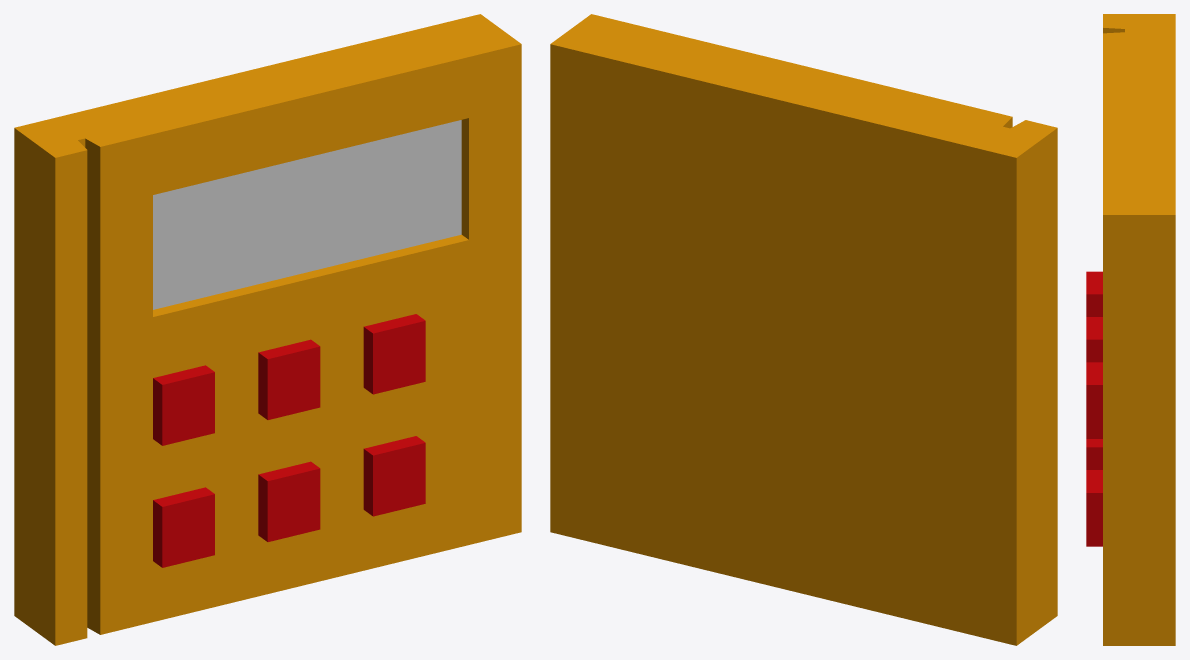
File: keypad.fbx
The picture shows the model from 3 angles, left to right: view 1: azimuth 30°, elevation 25°; view 2: azimuth 150°, elevation 25°; view 3: azimuth 270°, elevation 25°; orthographic projection. The views are drawn at different scales.
Visible parts, largest first — view 1: Keypad; view 2: Keypad; view 3: Keypad.
Boxes of the visible parts, x1,y1,x2,y2 form: Keypad: (14,14,521,645); Keypad: (550,14,1057,645); Keypad: (1086,14,1175,645).
Size of the model in its own units: 26.26 by 26.26 by 4.93.
